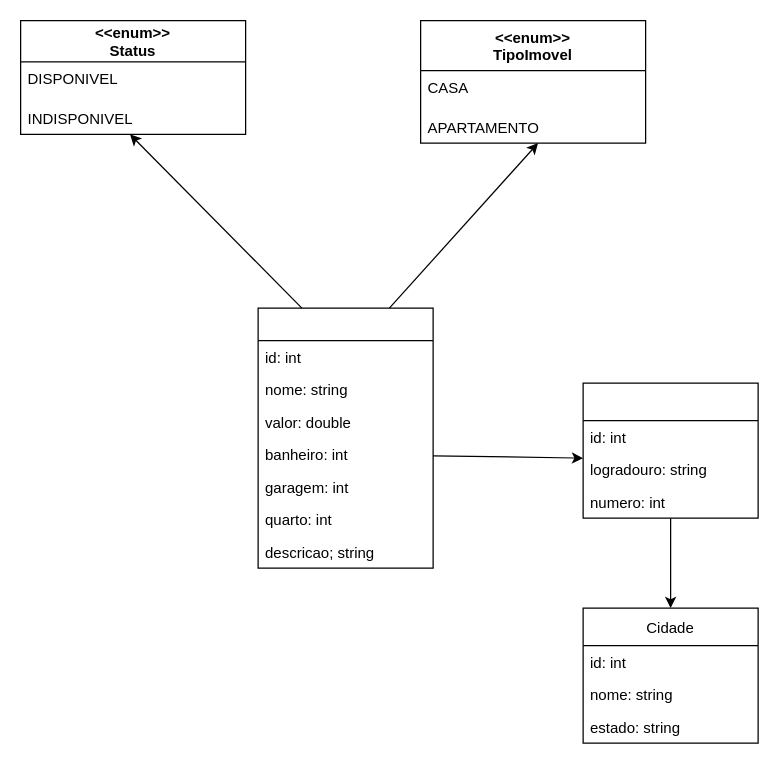
This 779x764 diagram has some shape labels left out. The box of each missing label's shape, as (x1, y1, x2, y2) in pixels:
Endereco: (582, 382, 758, 518)
Imovel: (257, 307, 433, 568)
